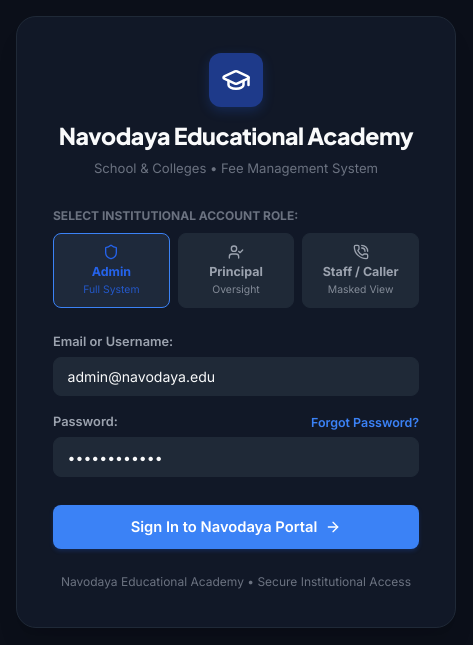
Scenario: LoginView Component › switches demo roles when clicking role buttons
# Click on Staff / Caller role
Click the text "Staff / Caller". click: (361, 272)
box: [323,264,399,280]
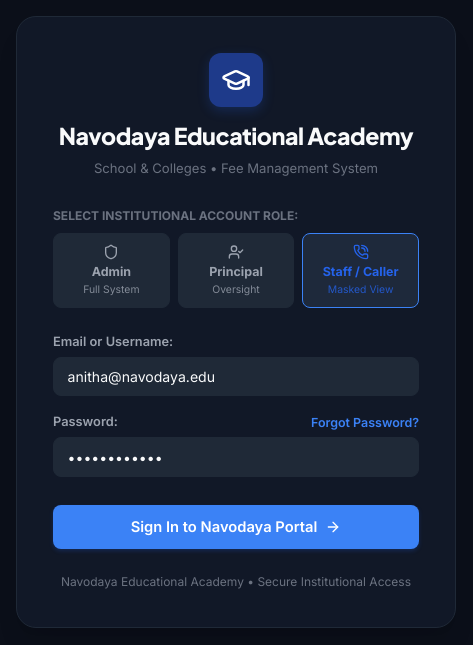
Expected: the field showing "anitha@navodaya.edu" is shown, [53,357,419,396]
# Click on Principal role
Click the text "Oversight". click: (236, 290)
box: [212,284,260,296]
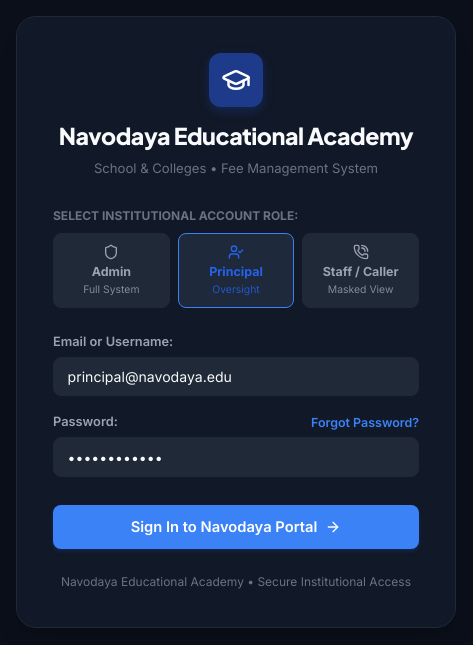
Expected: the field showing "principal@navodaya.edu" is shown, [53,357,419,396]
